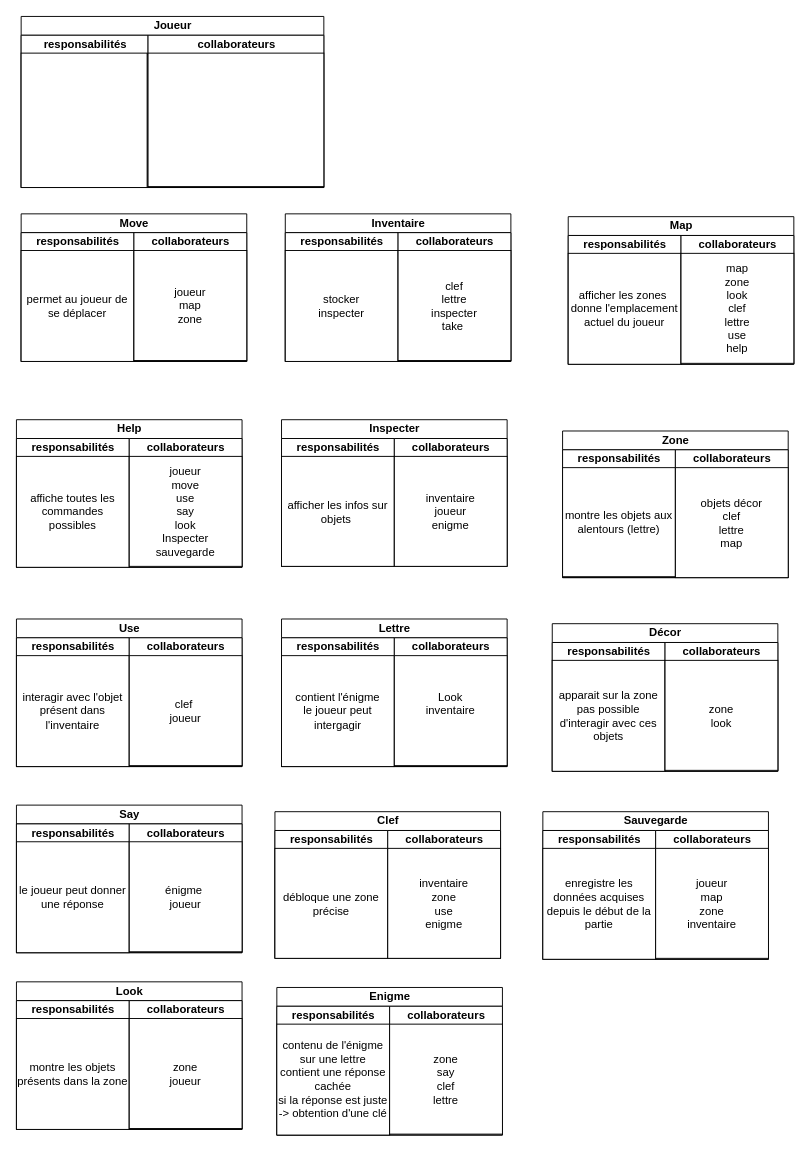
This 810x1152 diagram has some shape labels left out. Each missing label, with the centre of its shape:
"faire des commandes" goes at point (83, 120).
"map zone look clef lettre use help say" goes at point (235, 119).
